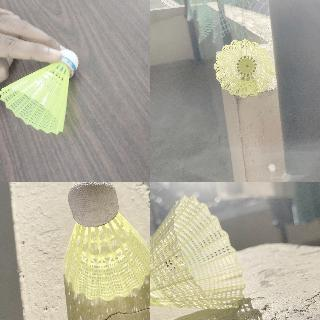shuttlecock: (150, 193, 245, 317), (62, 182, 149, 300), (0, 52, 79, 135), (214, 39, 274, 97)
